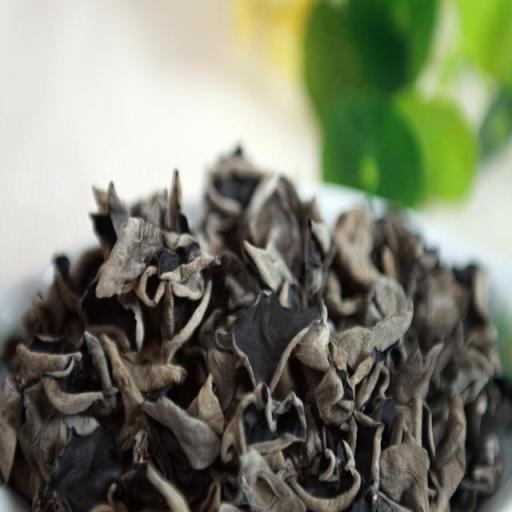Wood Ear Mushroom: (0, 157, 508, 512)
